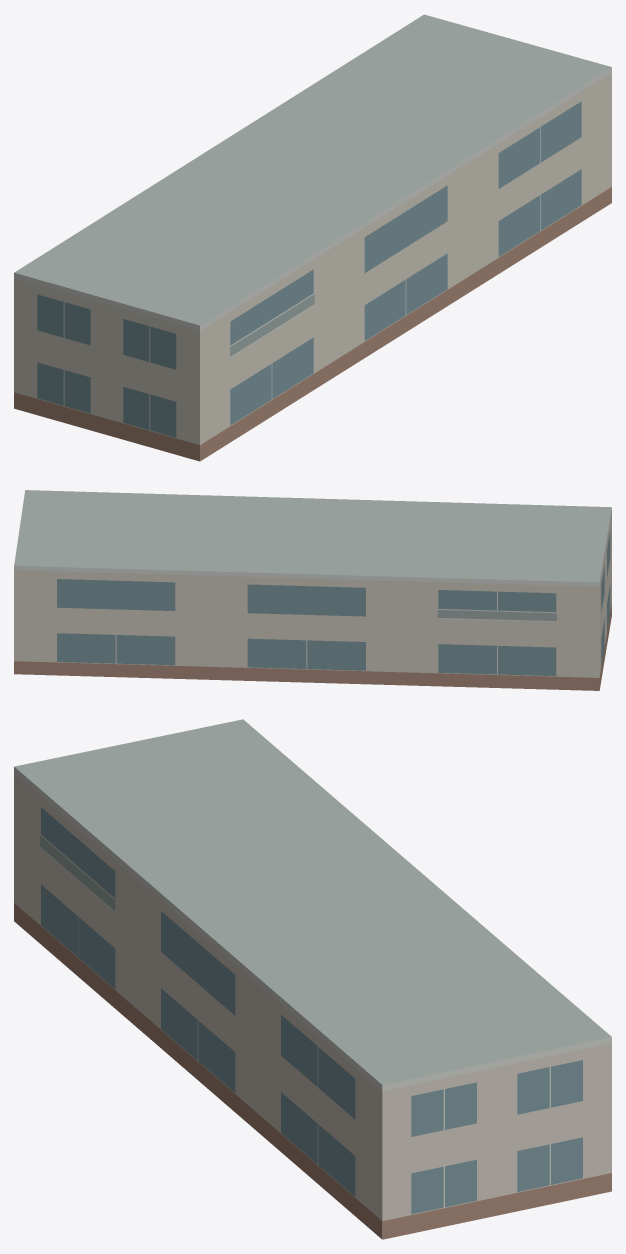
File: survey-upis-32920582.glb
3 views of the same model, one above another, from view 1: azimuth 30°, elevation 25°; view 2: azimuth 150°, elevation 25°; view 3: azimuth 270°, elevation 25° (orthographic). The views are drawn at different scales.
Parts seen in each view (by area): view 1: survey-upis-32920582.tmp; view 2: survey-upis-32920582.tmp; view 3: survey-upis-32920582.tmp.
Part boxes in pixels (x1,y1,x2,y2): survey-upis-32920582.tmp: (14,14,611,461); survey-upis-32920582.tmp: (14,490,611,690); survey-upis-32920582.tmp: (14,719,611,1239).
Bounding box in the file's own units: 30.96 × 6.1 × 21.38.
